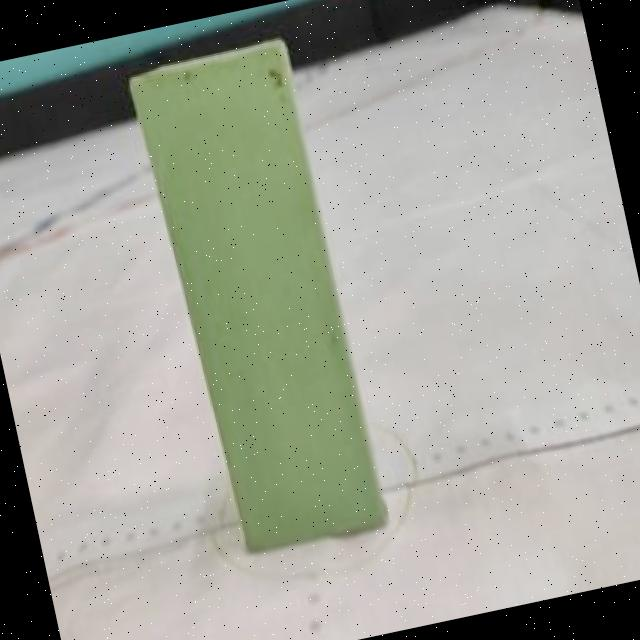greenbox: (142, 38, 386, 556)
